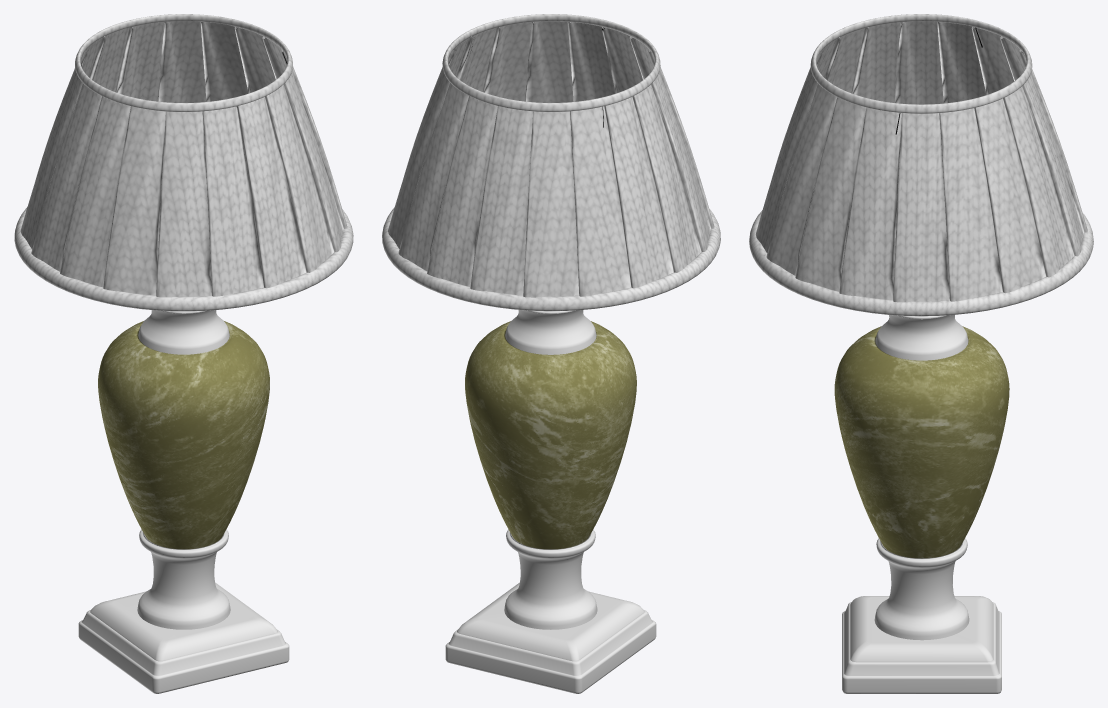
Rendered from Lamp.fbx.
The picture shows the model from 3 angles, left to right: view 1: azimuth 30°, elevation 25°; view 2: azimuth 150°, elevation 25°; view 3: azimuth 270°, elevation 25°; orthographic projection.
Parts seen in each view (by area): view 1: Table lamp; view 2: Table lamp; view 3: Table lamp.
Boxes of the visible parts, <box> form: Table lamp: <box>14,14,353,693</box>; Table lamp: <box>382,14,720,693</box>; Table lamp: <box>749,14,1093,693</box>.
Size of the model in its own units: 20.78 by 40.03 by 20.78.
